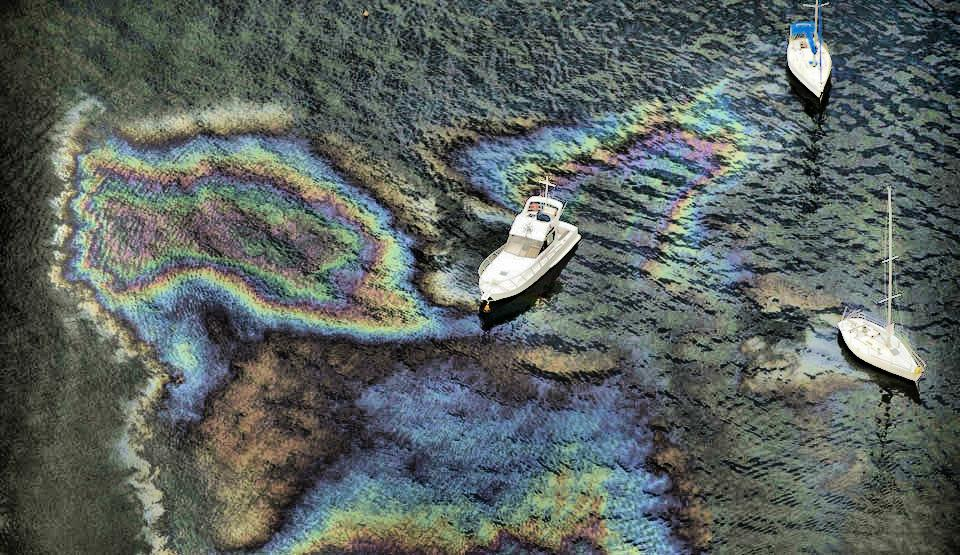rainbow: (262, 376, 680, 554), (68, 134, 435, 336), (525, 86, 744, 276)
